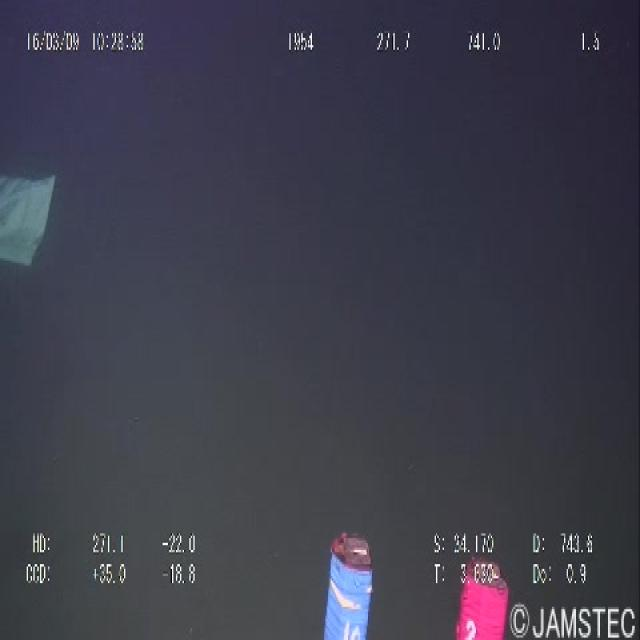plastic: (0, 178, 63, 277)
